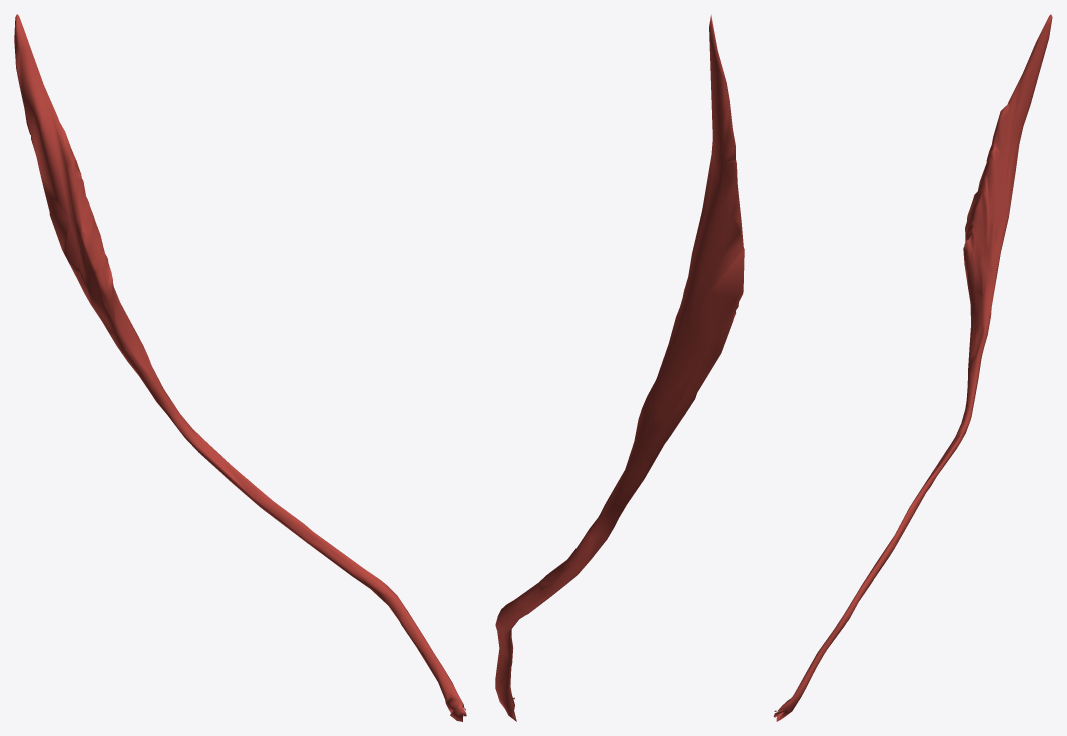
File: musculos-extensor-pollicis-longus-l.glb
The picture shows the model from 3 angles, left to right: view 1: azimuth 30°, elevation 25°; view 2: azimuth 150°, elevation 25°; view 3: azimuth 270°, elevation 25°; orthographic projection. The views are drawn at different scales.
Parts seen in each view (by area): view 1: Extensor pollicis longus.l; view 2: Extensor pollicis longus.l; view 3: Extensor pollicis longus.l.
Part boxes in pixels (x1,y1,x2,y2): Extensor pollicis longus.l: [14, 14, 466, 721]; Extensor pollicis longus.l: [495, 14, 744, 721]; Extensor pollicis longus.l: [773, 14, 1052, 721].
Bounding box in the file's own units: 0.0982 × 0.2091 × 0.0906.
